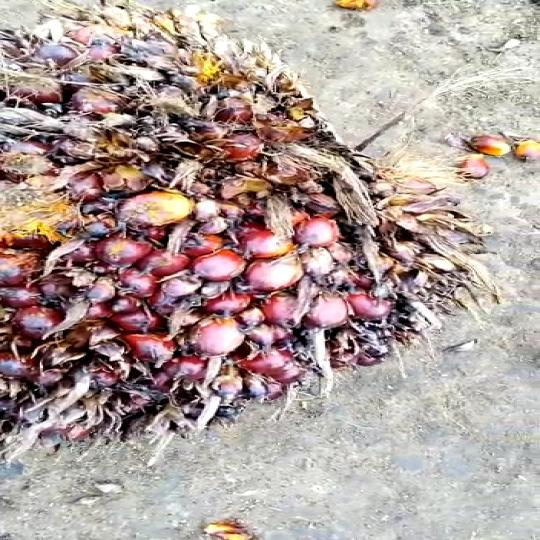masak: (0, 6, 463, 488)
